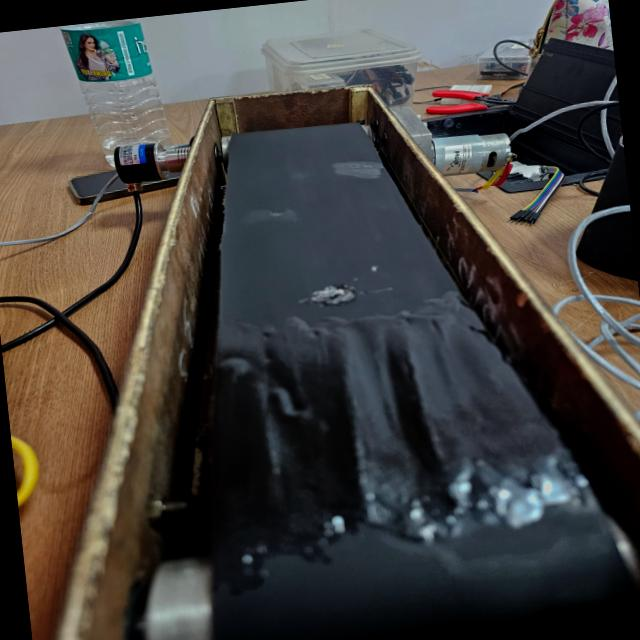Joint_Damage: (229, 293, 483, 513)
burnt: (332, 154, 384, 179), (243, 208, 299, 226)
punture: (298, 283, 393, 306)
